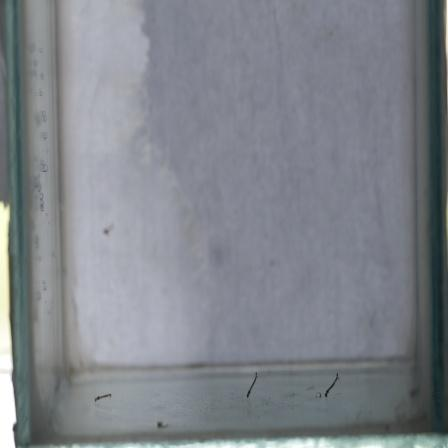Jentik-Nyamuk: (320, 368, 343, 401), (244, 370, 267, 397), (93, 386, 118, 410)
